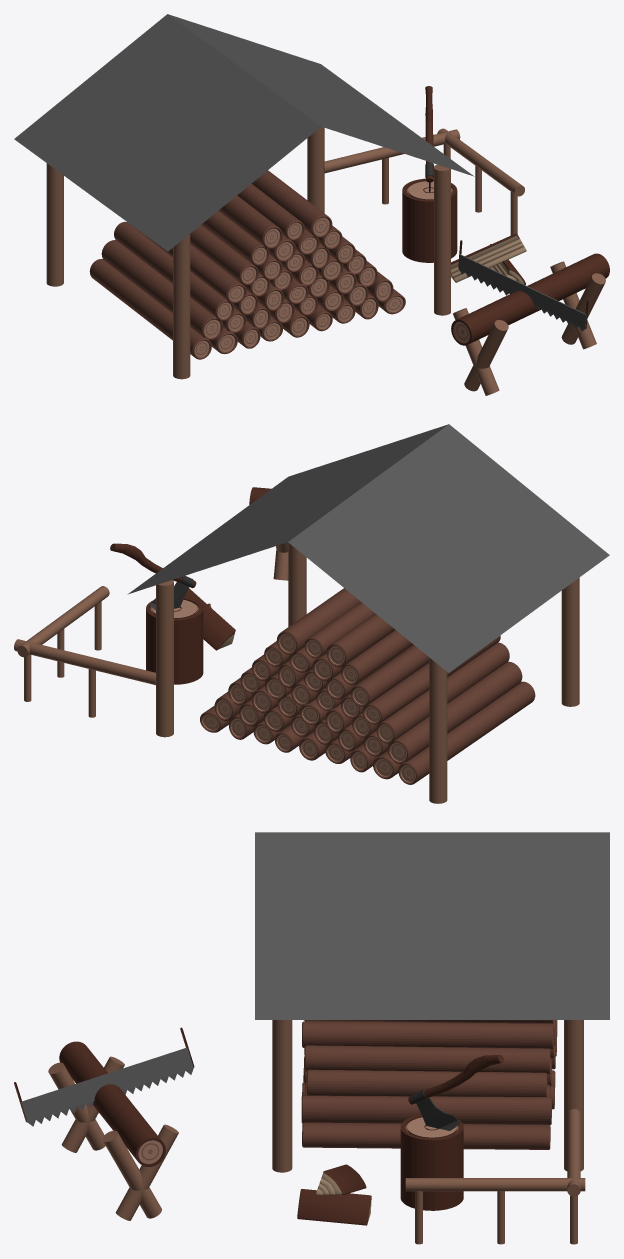
File: lumberjack_hut (3).fbx
3 views of the same model, one above another, from view 1: azimuth 30°, elevation 25°; view 2: azimuth 150°, elevation 25°; view 3: azimuth 270°, elevation 25° (orthographic). The views are drawn at different scales.
Parts seen in each view (by area): view 1: Circle.005; view 2: Circle.005; view 3: Circle.005.
Part boxes in pixels (x1,y1,x2,y2): Circle.005: (14, 14, 609, 395); Circle.005: (14, 424, 609, 803); Circle.005: (14, 832, 609, 1244).
Size of the model in its own units: 181 by 94.31 by 189.
